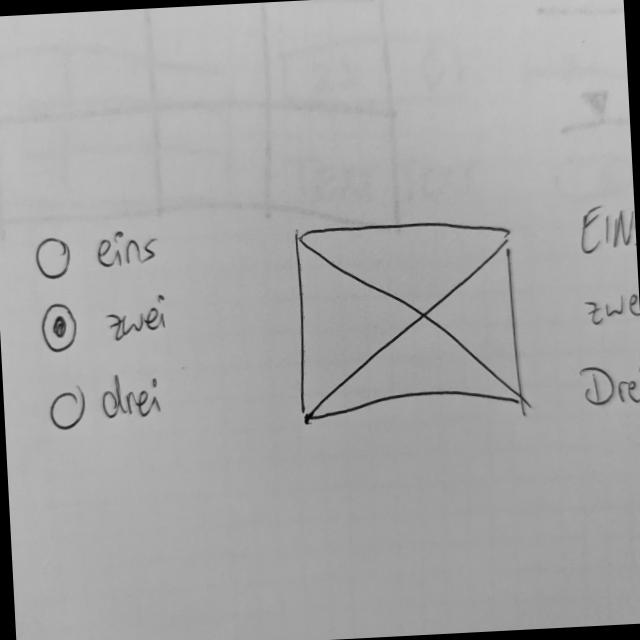image: (289, 216, 526, 430)
label: (575, 198, 638, 265), (578, 361, 640, 410), (583, 279, 640, 329)
radio: (40, 291, 174, 355), (45, 370, 167, 439), (35, 222, 161, 286)
